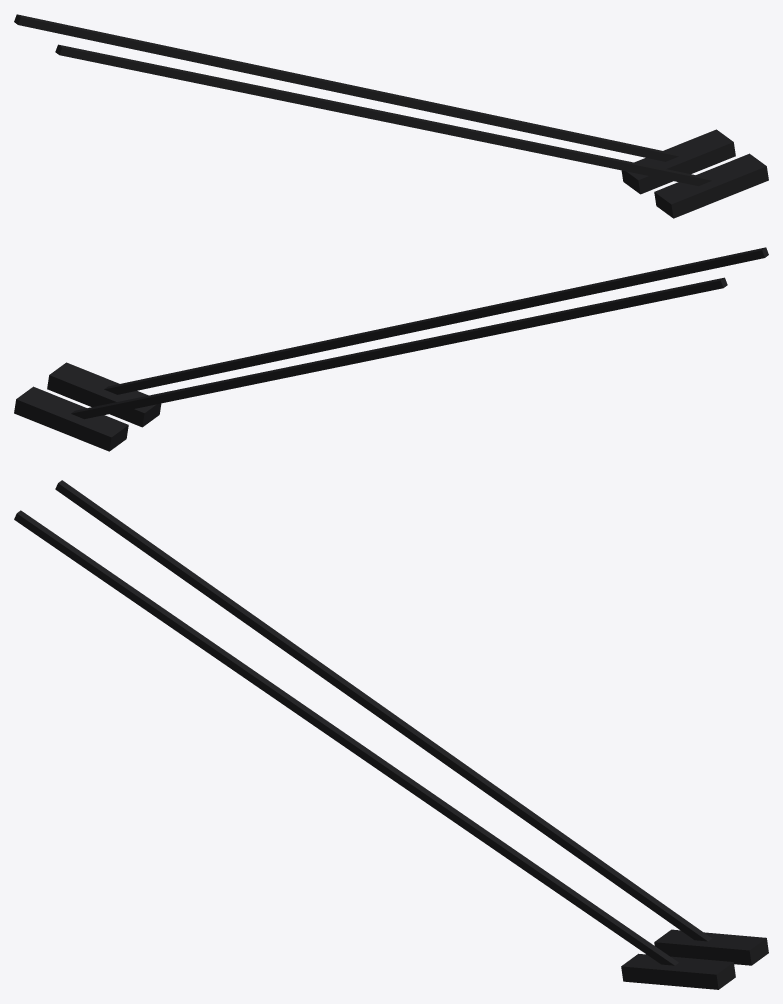
The model's file is trolley_poles.obj.
3 views of the same model, one above another, from view 1: azimuth 30°, elevation 25°; view 2: azimuth 150°, elevation 25°; view 3: azimuth 330°, elevation 25° (orthographic).
Visible parts, largest first — view 1: TrolleyPole; view 2: TrolleyPole; view 3: TrolleyPole.
Part boxes in pixels (left/top/right/bottom): TrolleyPole: left=14, top=14, right=768, bottom=218; TrolleyPole: left=14, top=247, right=768, bottom=451; TrolleyPole: left=14, top=480, right=768, bottom=989.
Bounding box in the file's own units: 5.93 × 2.55 × 0.73.
Materials: 1 (1 with a texture image).
